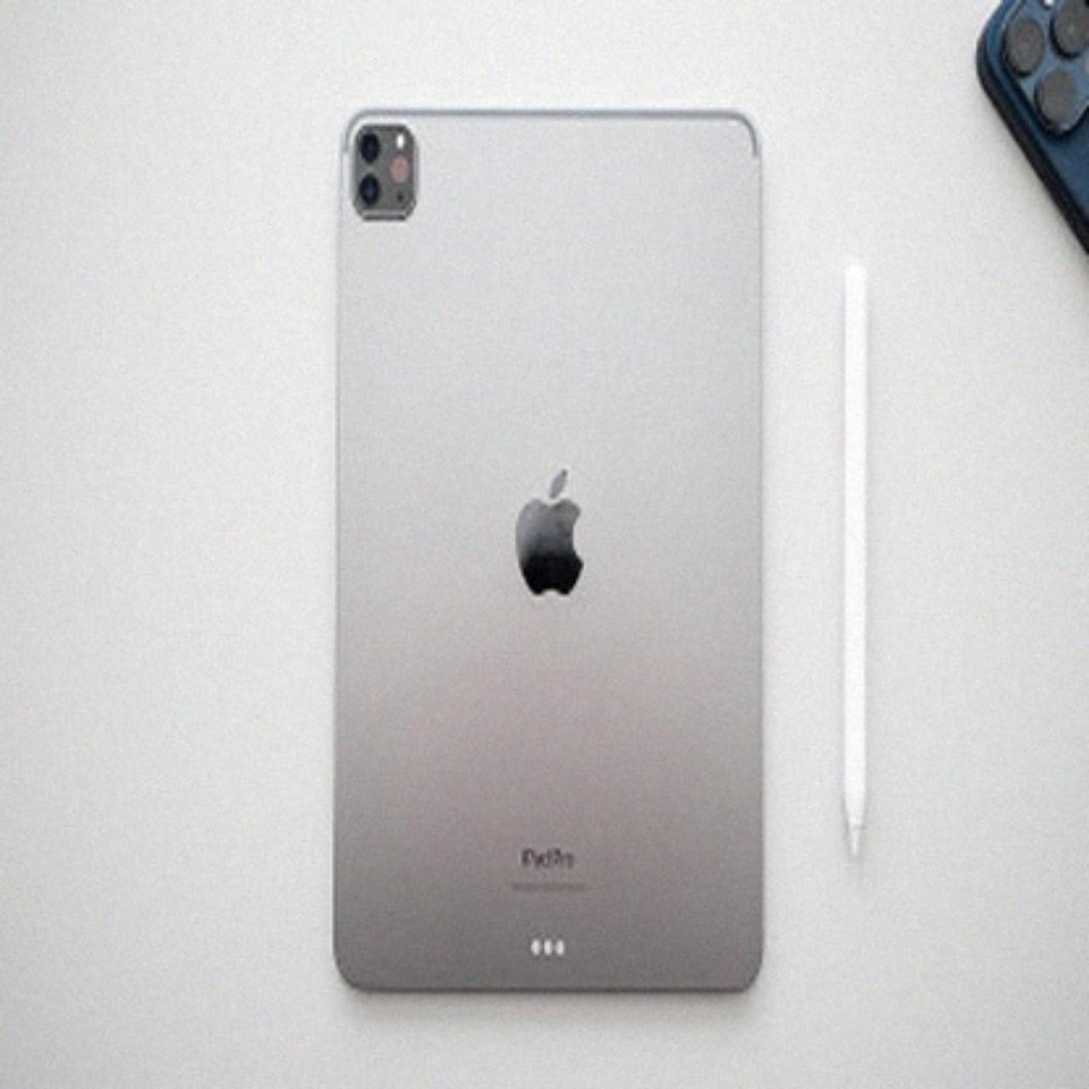Tablet_PC: (320, 94, 783, 1023)
